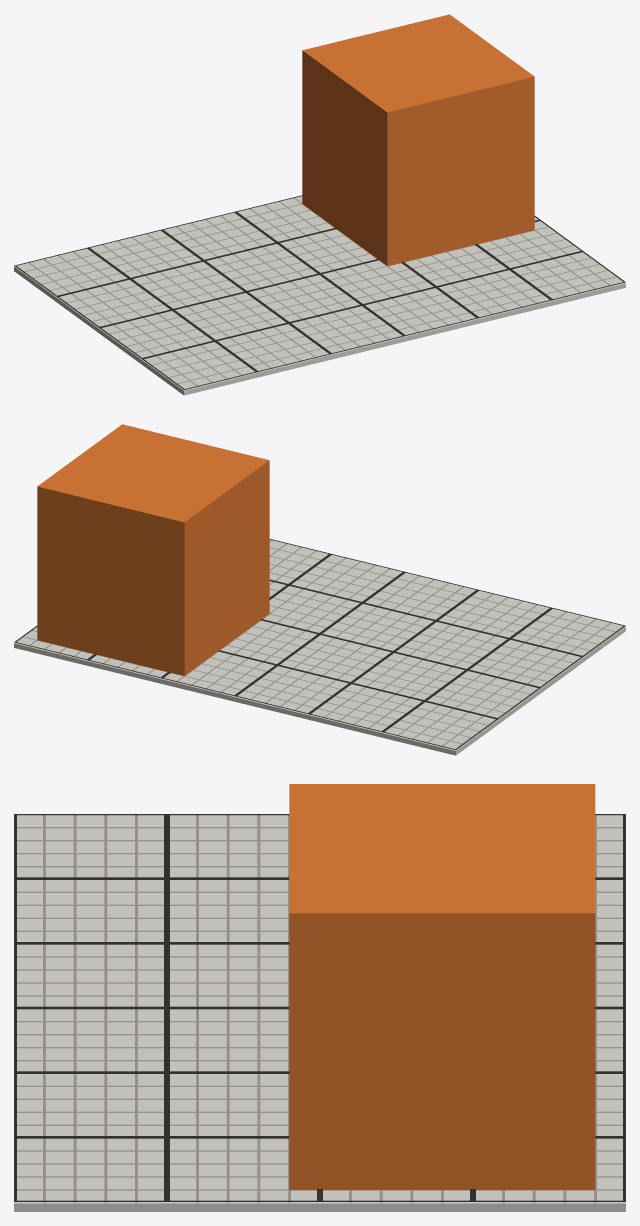
File: tablero-escala.glb
3 views of the same model, one above another, from view 1: azimuth 30°, elevation 25°; view 2: azimuth 150°, elevation 25°; view 3: azimuth 270°, elevation 25° (orthographic). The views are drawn at different scales.
Visible parts, largest first — view 1: base, cubo_10cm, lineas_1cm, lineas_5cm; view 2: base, cubo_10cm, lineas_1cm, lineas_5cm; view 3: cubo_10cm, base, lineas_1cm, lineas_5cm.
Boxes of the visible parts, x1,y1,x2,y2 form: base: [14, 196, 625, 395]; cubo_10cm: [302, 14, 534, 265]; lineas_1cm: [22, 198, 616, 386]; lineas_5cm: [14, 195, 625, 389]; base: [14, 540, 625, 755]; cubo_10cm: [37, 424, 269, 675]; lineas_1cm: [23, 540, 617, 746]; lineas_5cm: [14, 539, 625, 749]; cubo_10cm: [289, 784, 595, 1189]; base: [14, 815, 625, 1211]; lineas_1cm: [17, 815, 622, 1202]; lineas_5cm: [14, 814, 625, 1201].
Size of the model in its own units: 0.3 by 0.103 by 0.2.
